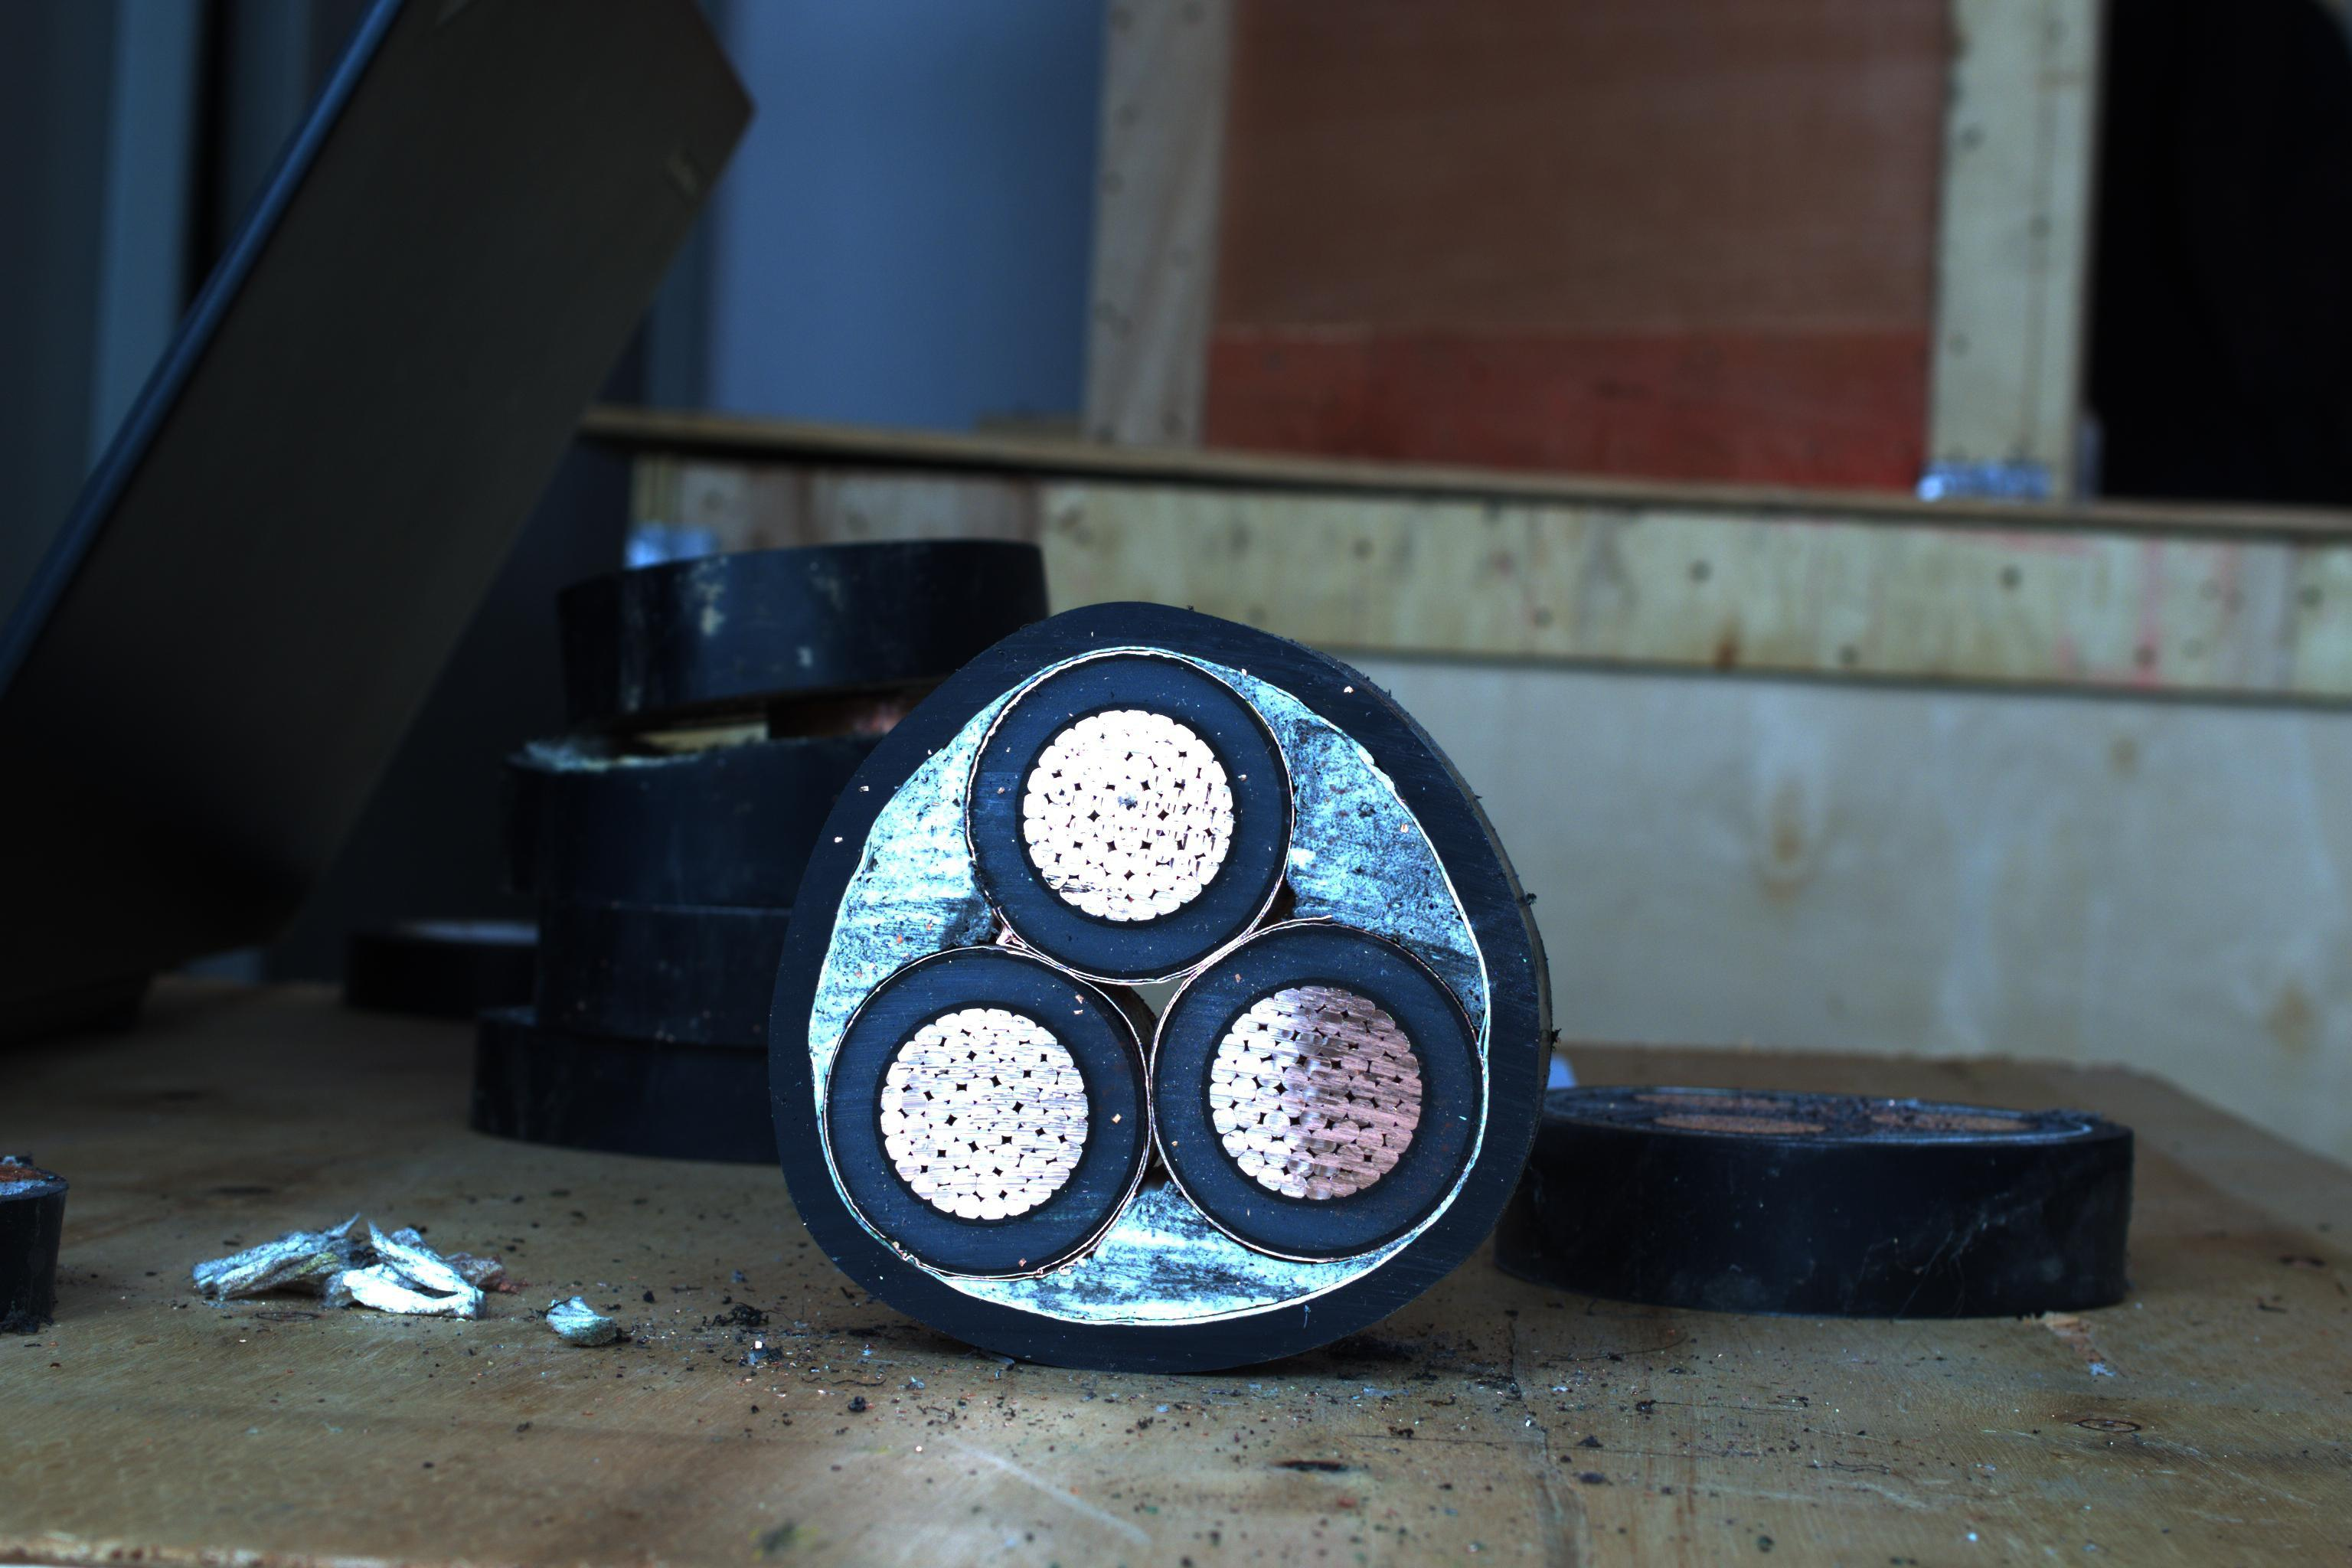ZA_YJV_8.7_10kV_3x400: (780, 588, 1543, 1354)
